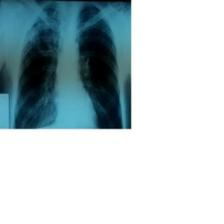tuberculosis: (11, 1, 127, 128)
